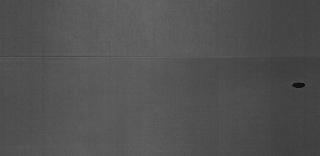punching hole: (291, 82, 307, 91)
welding line: (2, 51, 318, 63)
